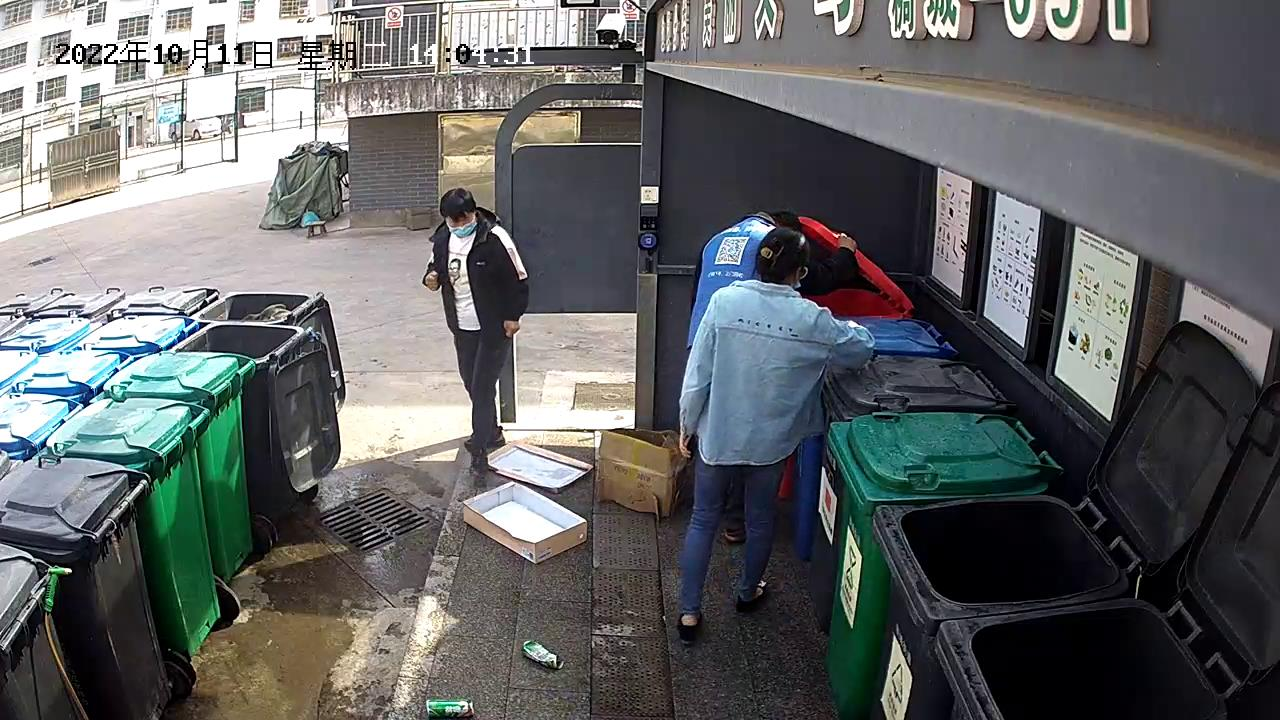lvzhipin: (520, 635, 566, 672), (424, 693, 479, 718)
person: (419, 187, 531, 486)
worker: (673, 209, 875, 645)
zhizhipin: (459, 479, 589, 565), (592, 425, 692, 518), (483, 434, 596, 493)
